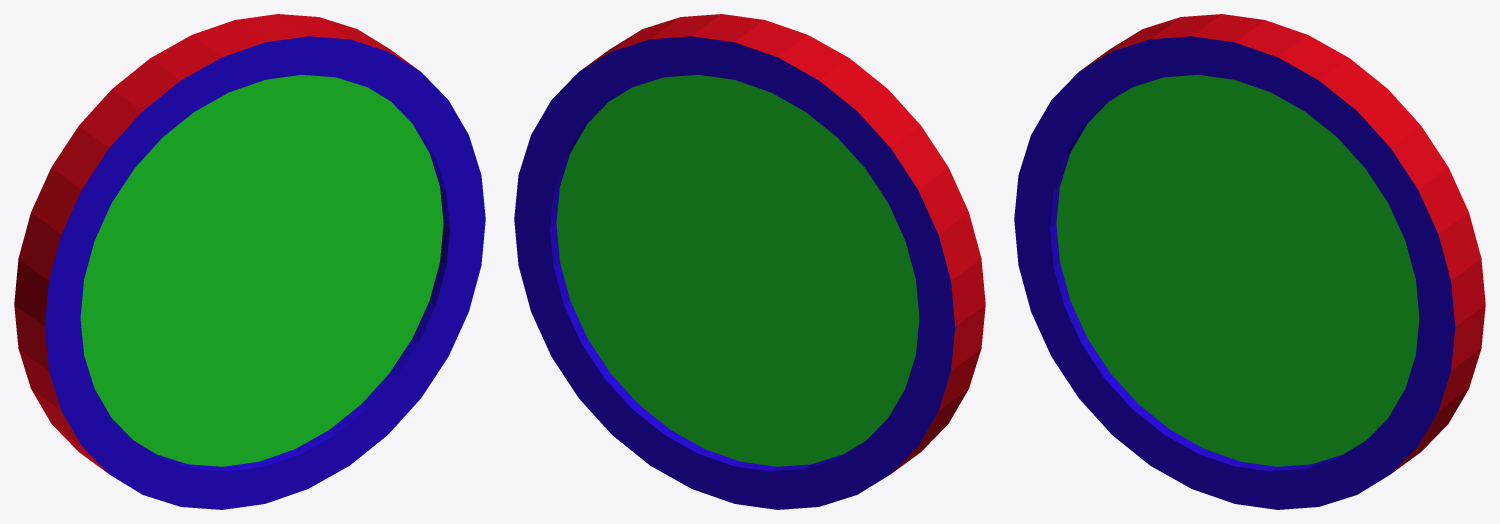
File: Coin.fbx
3 views of the same model, side by side, from view 1: azimuth 30°, elevation 25°; view 2: azimuth 150°, elevation 25°; view 3: azimuth 330°, elevation 25° (orthographic).
Visible parts, largest first — view 1: Coin; view 2: Coin; view 3: Coin.
Boxes of the visible parts, left/top/right/bottom form: Coin: left=14, top=14, right=485, bottom=509; Coin: left=514, top=14, right=985, bottom=509; Coin: left=1014, top=14, right=1485, bottom=509.
Bounding box in the file's own units: 200 × 200 × 23.94.
